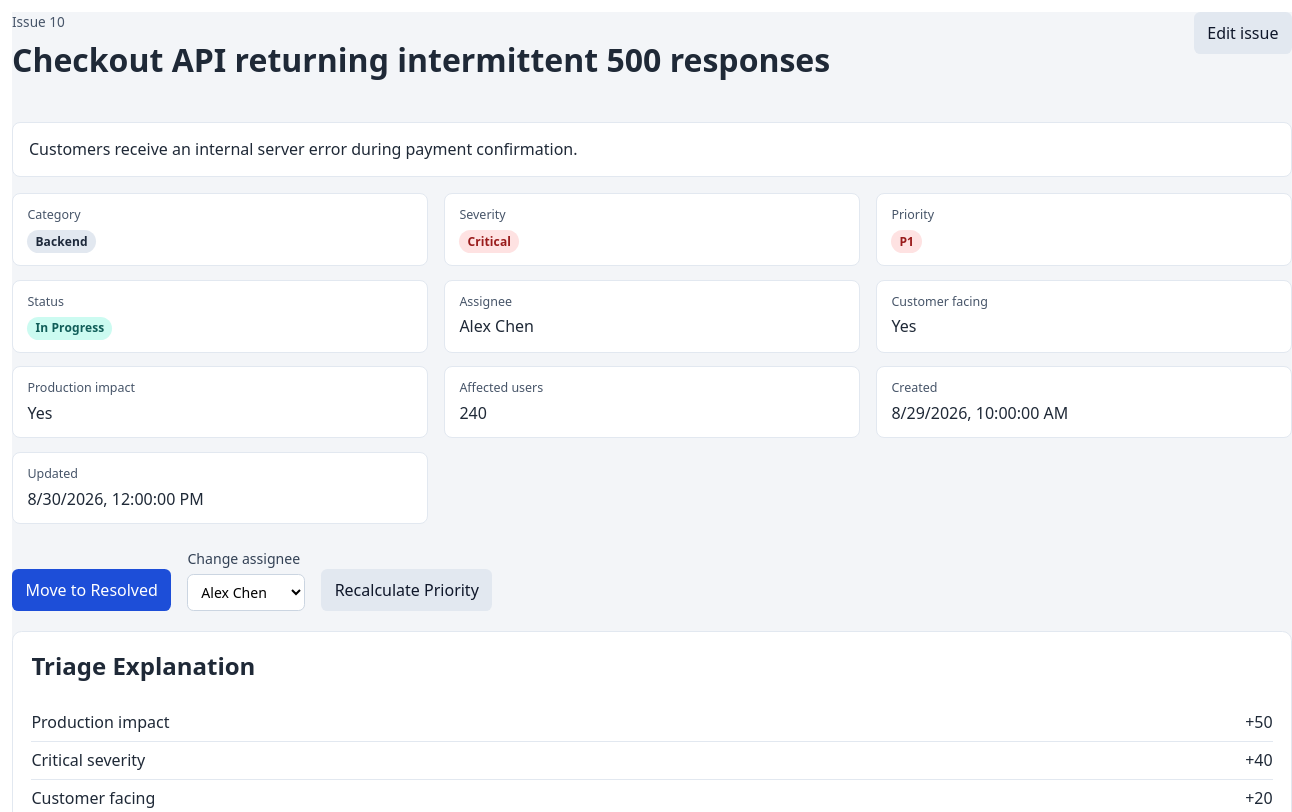
IssueDetailPage › advances status to the next valid workflow step
This screenshot has width=1292, height=812.
Click the button "Move to Resolved". click: (92, 590)
box: [12,570,172,611]
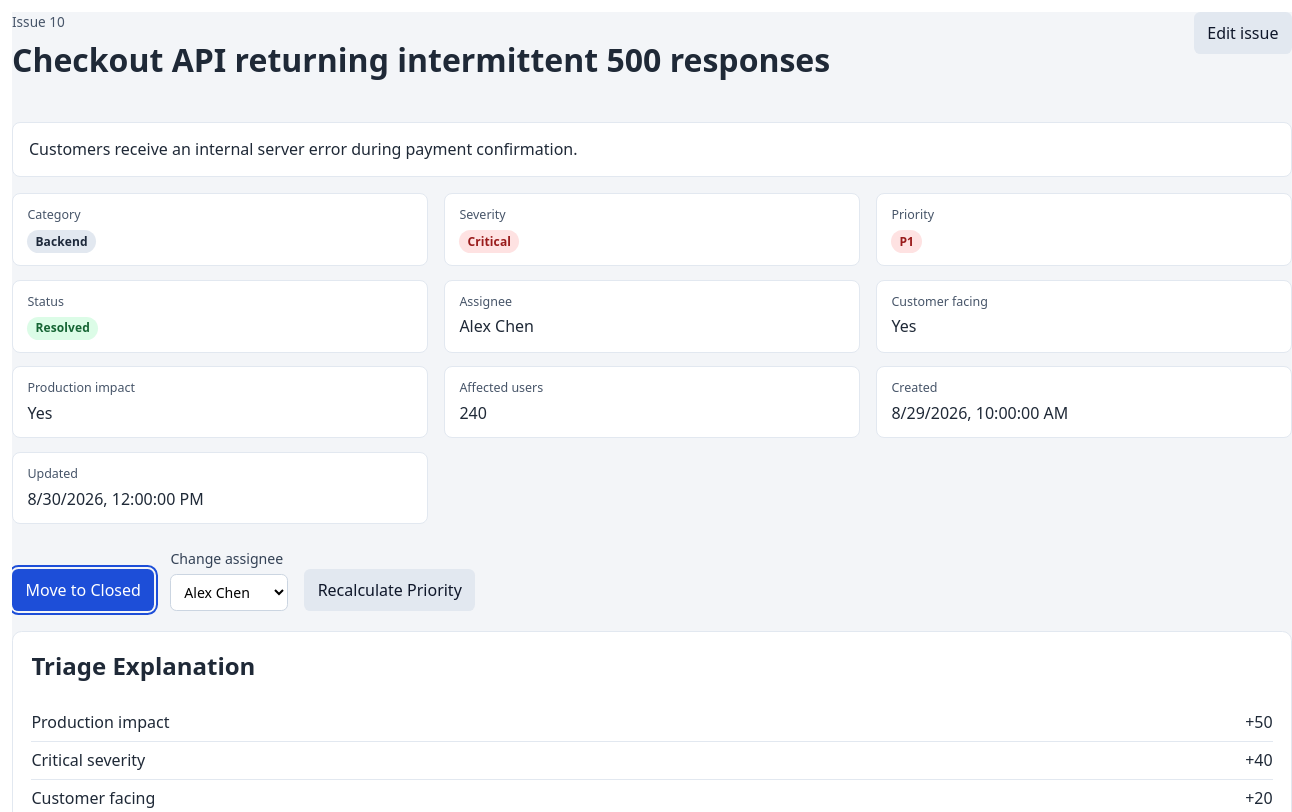
Now the button "Move to Closed" is shown, box [12,570,154,611]
